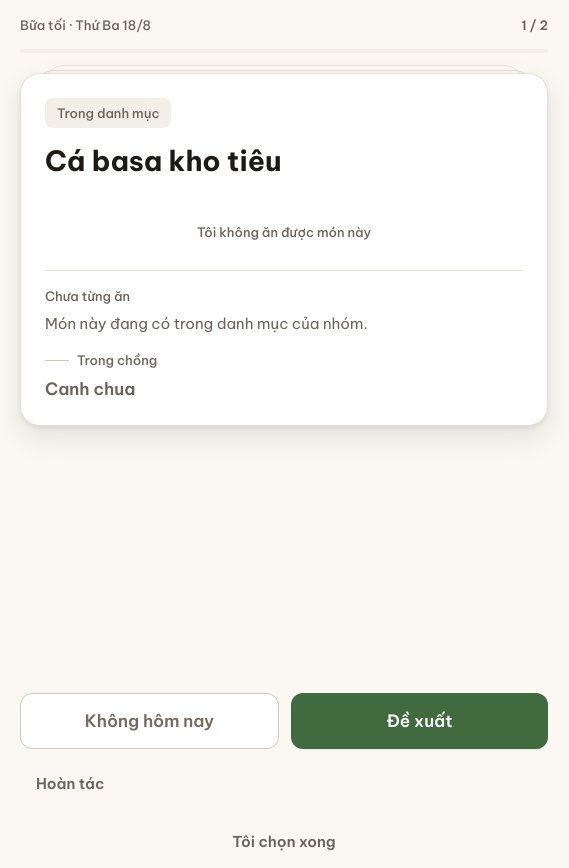
Test: S-09 Deck vuốt › bấm Đề xuất thì tiến sang món kế tiếp
Click the button with aria-label "Đề xuất Cá basa kho tiêu" at coordinates (420, 721), box x1=291 y1=693 x2=548 y2=749
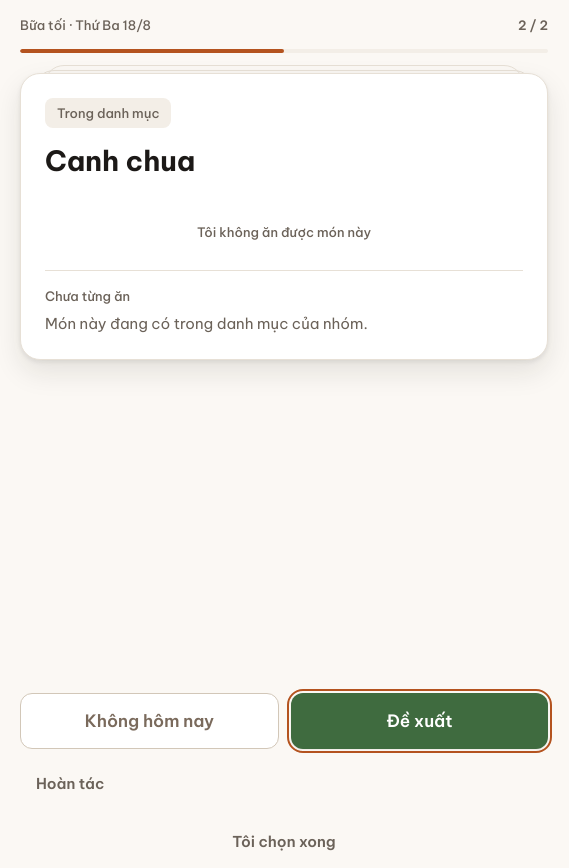
expect the heading "Canh chua" is shown: met, box x1=45 y1=143 x2=195 y2=178
expect the text "2 / 2" is shown: met, box x1=518 y1=16 x2=548 y2=34
